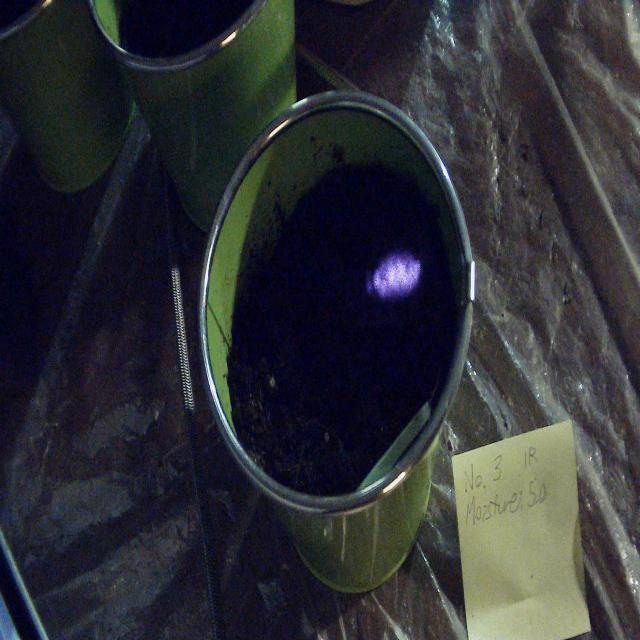soil-moisture-5.0: (373, 253, 421, 295)
